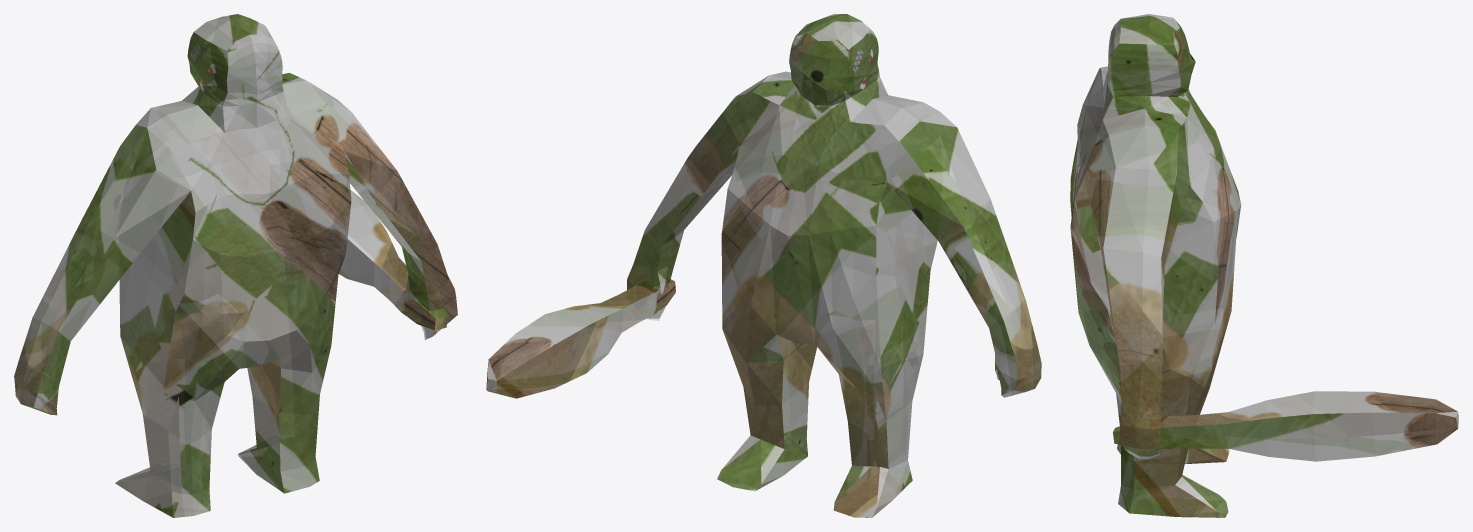
The model's file is Enemigo229.obj.
The picture shows the model from 3 angles, left to right: view 1: azimuth 30°, elevation 25°; view 2: azimuth 150°, elevation 25°; view 3: azimuth 270°, elevation 25°; orthographic projection. The views are drawn at different scales.
Visible parts, largest first — view 1: Cube; view 2: Cube; view 3: Cube.
Part boxes in pixels (x1,y1,x2,y2): Cube: (14,14,457,517); Cube: (486,14,1041,517); Cube: (1070,14,1458,517).
Size of the model in its own units: 2.55 by 2.71 by 2.04.
Materials: 1 (1 with a texture image).
